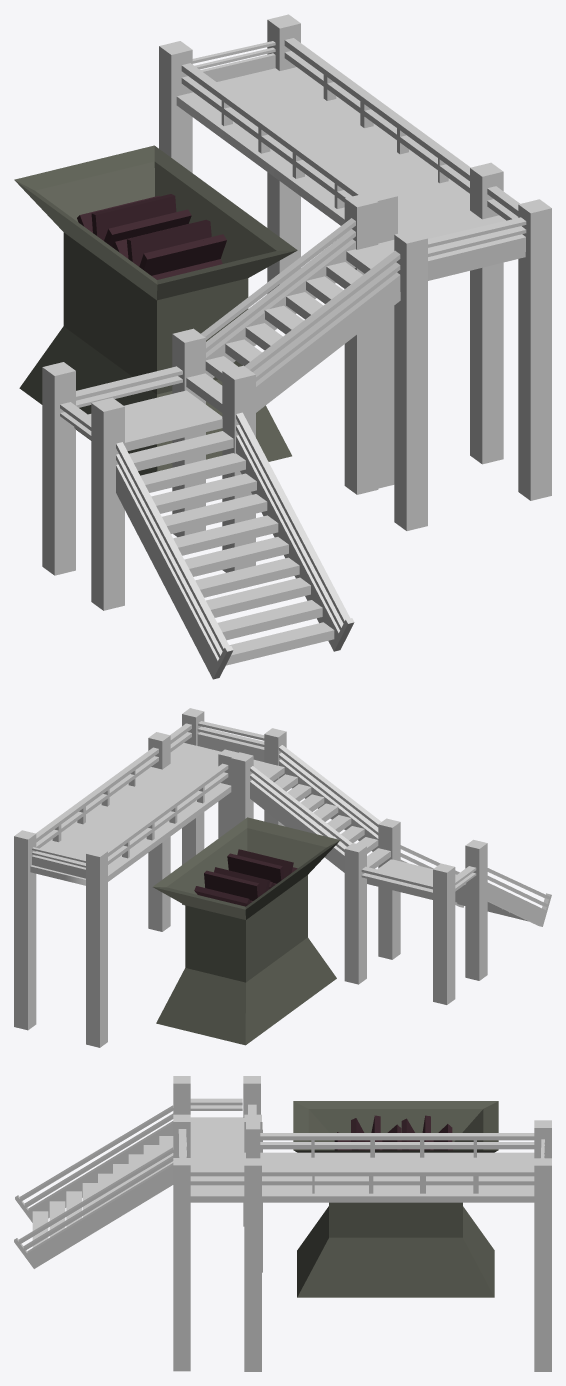
The model's file is Stairs_and_gears.glb.
3 views of the same model, one above another, from view 1: azimuth 30°, elevation 25°; view 2: azimuth 150°, elevation 25°; view 3: azimuth 270°, elevation 25° (orthographic). The views are drawn at different scales.
Visible parts, largest first — view 1: TrashGrinderBody, Stairs20, pCube16, pCube14, pCube19, pCube13, pCube11, pCube18, pCube9, pCube15, pCube6, pCube4 (+22 smaller); view 2: TrashGrinderBody, Stairs20, pCube21, pCube22, pCube16, pCube13, pCube9, pCube19, pCube8, pCube12, pCube11, pCube7 (+10 smaller); view 3: TrashGrinderBody, Stairs20, pCube16, pCube4, pCube19, pCube6, pCube21, pCube18, pCube9, Stairs11, pCube13, pCube22 (+3 smaller).
Part boxes in pixels (box(x1,y1,x2,y2)): TrashGrinderBody: box(14, 145, 297, 475); Stairs20: box(176, 67, 505, 273); pCube16: box(284, 38, 551, 500); pCube14: box(394, 229, 427, 530); pCube19: box(181, 63, 397, 488); pCube13: box(42, 362, 182, 575); pCube11: box(244, 250, 400, 412); pCube18: box(470, 162, 503, 464); pCube9: box(60, 397, 124, 610); pCube15: box(344, 193, 378, 494); pCube6: box(116, 442, 233, 679); pCube4: box(236, 412, 354, 651); TrashGrinderBody: box(153, 817, 340, 1045); Stairs20: box(30, 743, 284, 885); pCube21: box(14, 830, 36, 1030); pCube22: box(86, 848, 107, 1047); pCube16: box(36, 708, 204, 905); pCube13: box(361, 863, 455, 1004); pCube9: box(455, 839, 487, 980); pCube19: box(104, 749, 238, 864); pCube8: box(344, 843, 366, 984); pCube12: box(250, 766, 352, 872); pCube11: box(278, 745, 381, 851); pCube7: box(378, 818, 400, 959); TrashGrinderBody: box(293, 1101, 498, 1297); Stairs20: box(190, 1141, 547, 1202); pCube16: box(173, 1158, 534, 1371); pCube4: box(14, 1147, 173, 1268); pCube19: box(246, 1122, 534, 1158); pCube6: box(15, 1105, 173, 1222); pCube21: box(534, 1158, 551, 1371); pCube18: box(244, 1158, 261, 1371); pCube9: box(173, 1076, 242, 1114); Stairs11: box(190, 1117, 244, 1141); pCube13: box(243, 1076, 260, 1226); pCube22: box(534, 1120, 551, 1158).
Size of the model in its own units: 1.27 by 0.7979 by 1.84.
